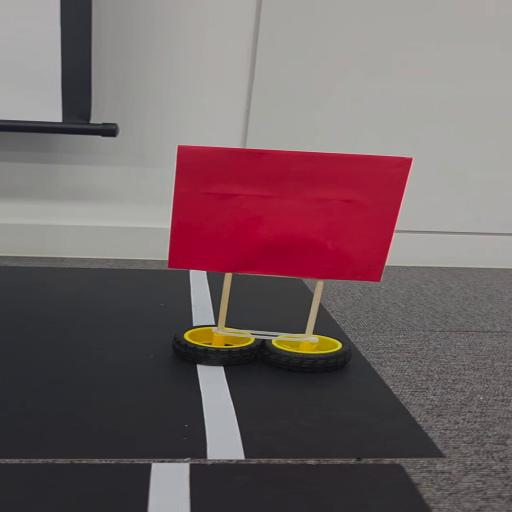Sign_A: (142, 137, 420, 384)
